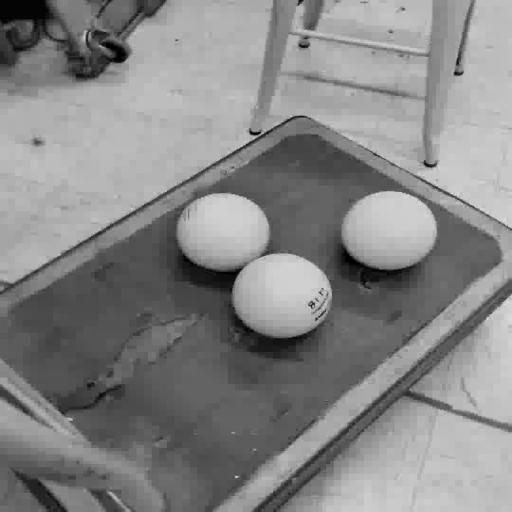fuel: (232, 254, 332, 338), (341, 191, 437, 270), (176, 193, 270, 272)
